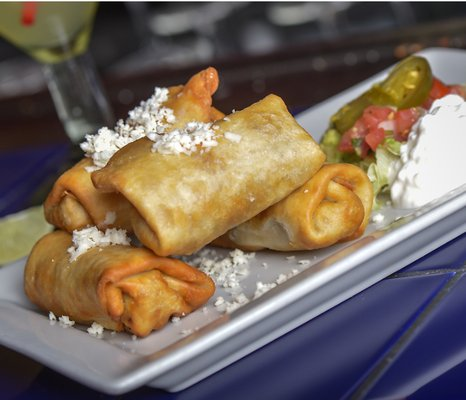sandwich: (0, 2, 117, 149)
